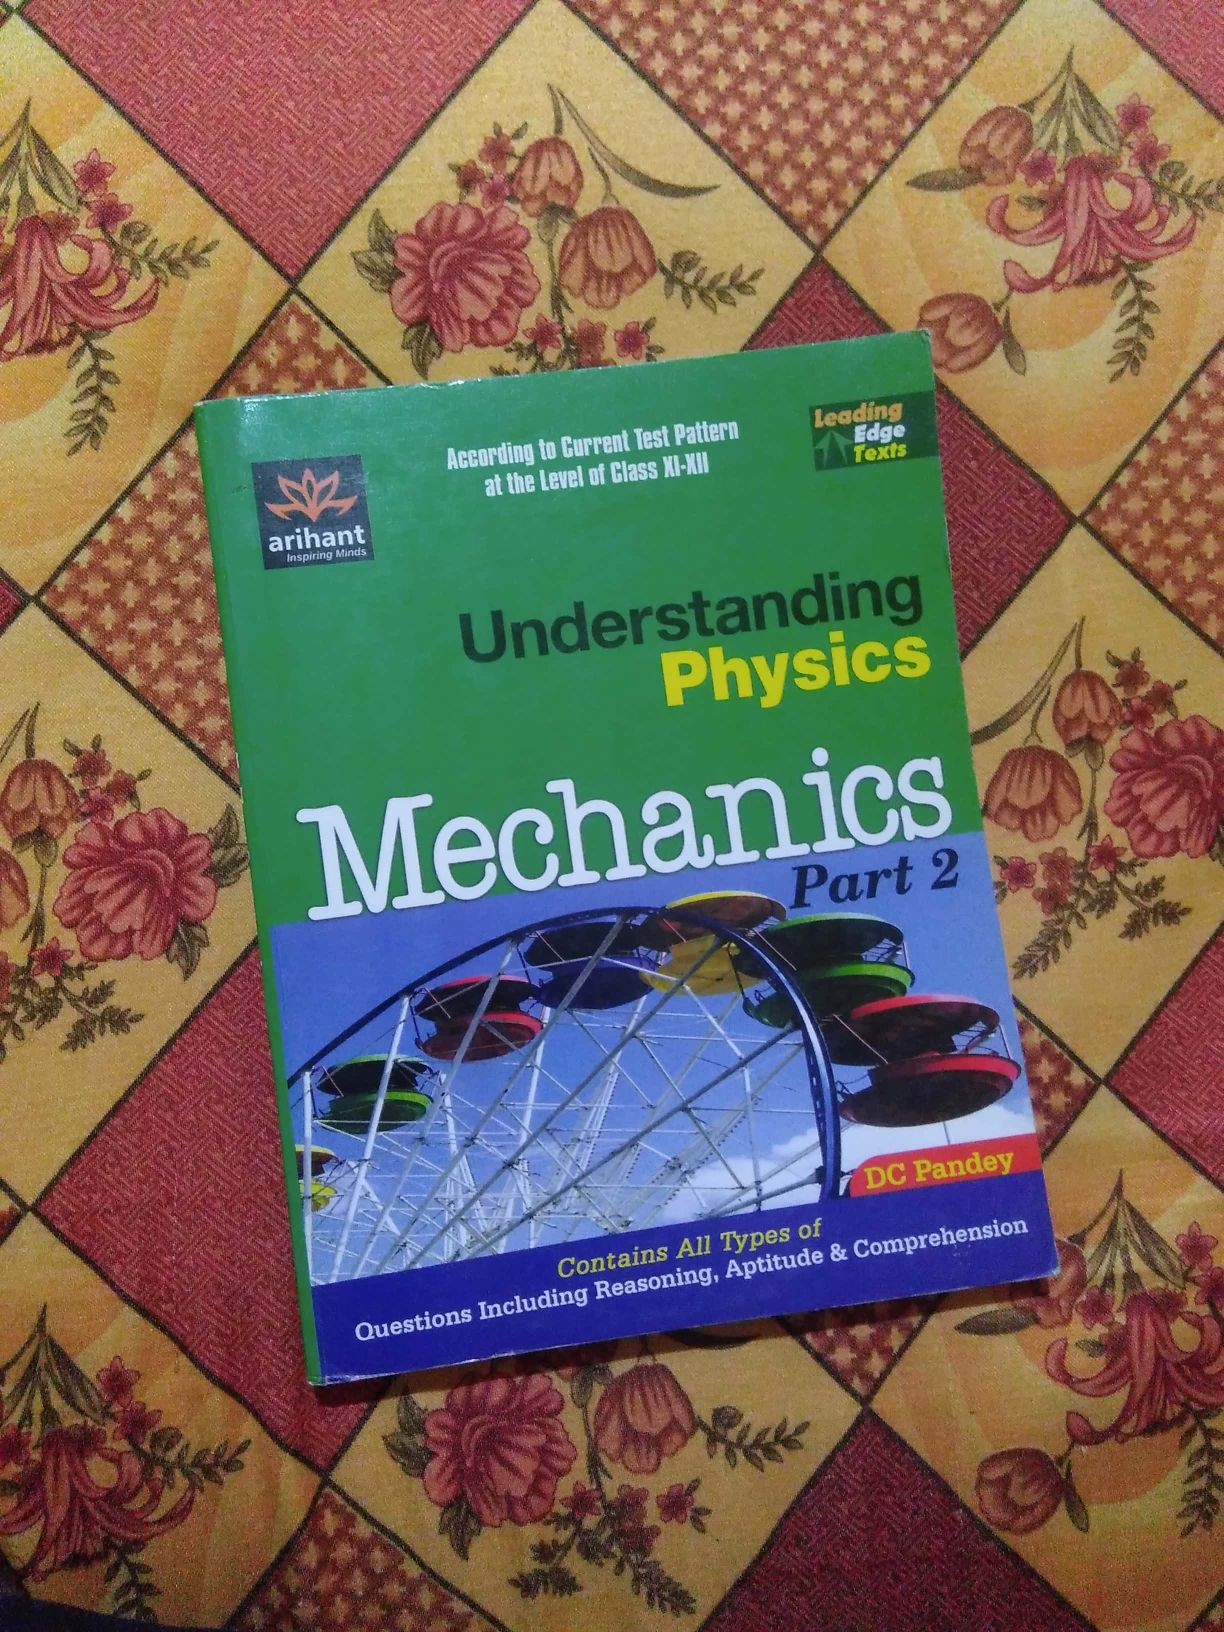mechanics: (147, 348, 1151, 1349)
